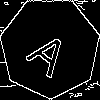A: (25, 22, 79, 79)
